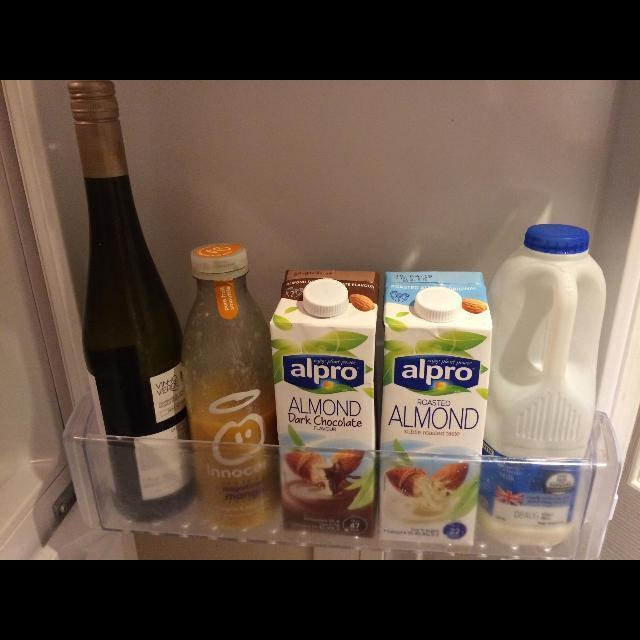Plastic: (478, 224, 606, 546), (181, 244, 281, 530), (524, 224, 590, 254), (302, 279, 348, 317), (190, 243, 248, 273), (414, 288, 462, 322)
